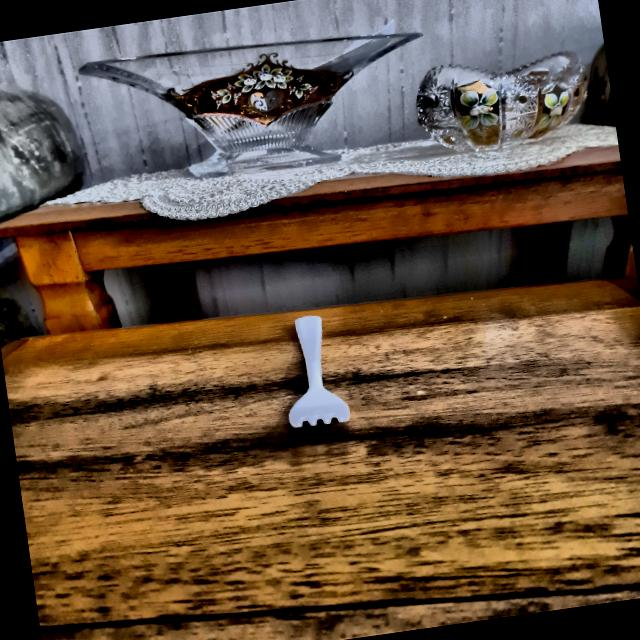plastic utensil: (270, 305, 359, 438)
